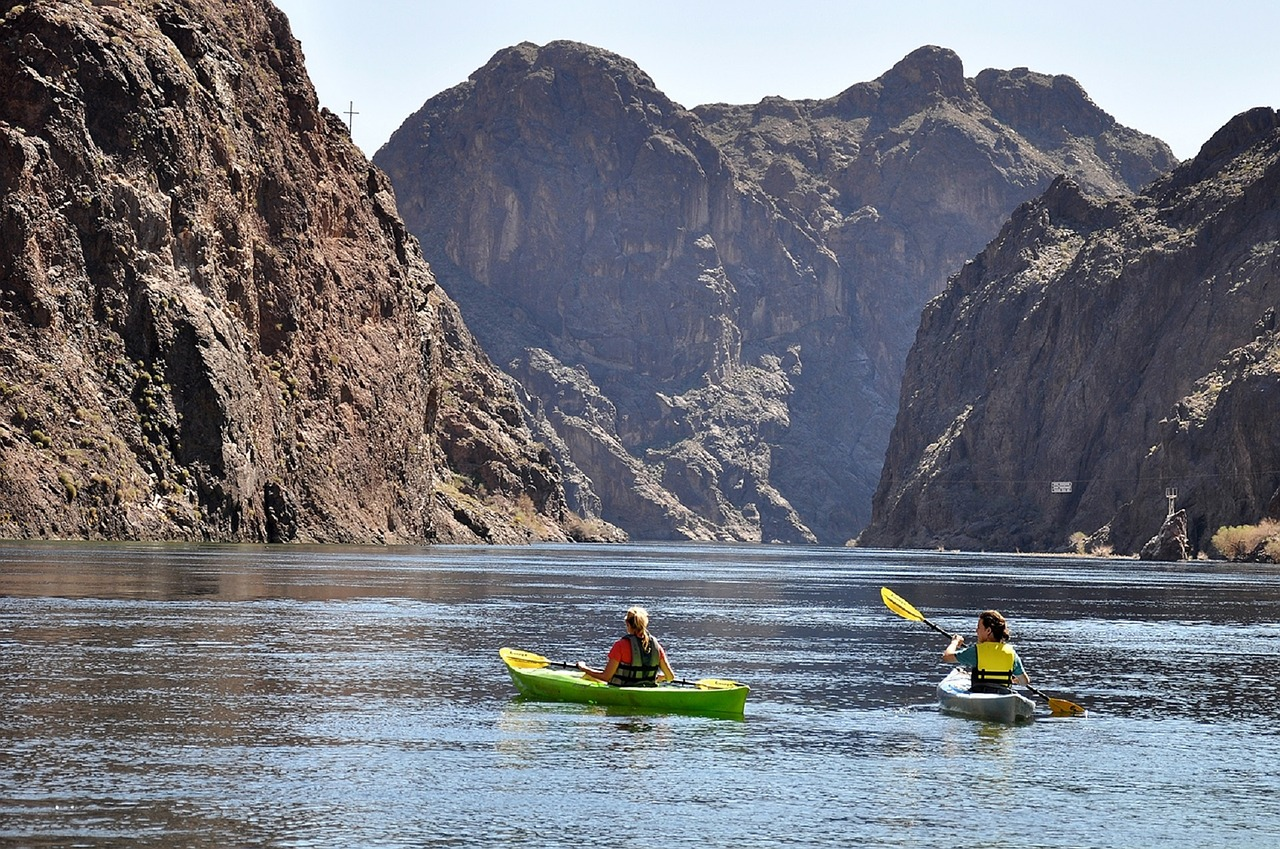kayak: (495, 642, 755, 724), (931, 661, 1042, 727)
